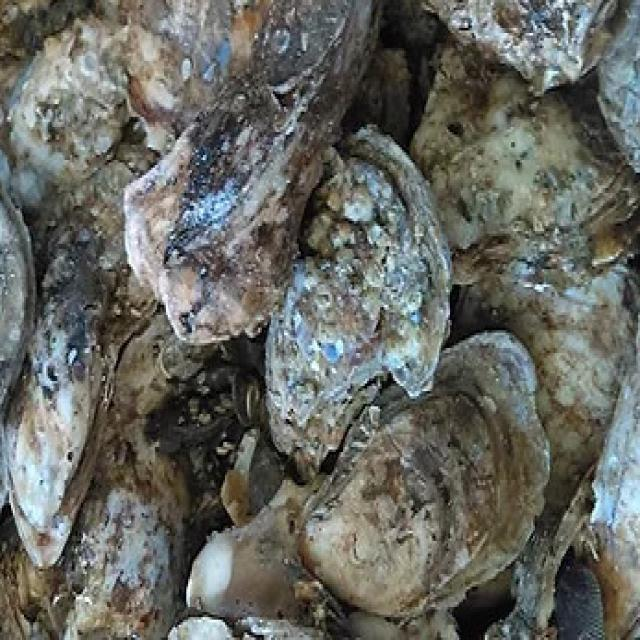Oyster-Closed: (7, 161, 158, 569), (449, 266, 640, 541), (0, 183, 37, 513)
Oyster-Indeterminate: (122, 0, 388, 346), (291, 335, 551, 618), (265, 130, 451, 481), (407, 36, 640, 287), (0, 414, 190, 640), (97, 0, 273, 138), (169, 69, 285, 251), (7, 21, 129, 189), (419, 0, 637, 89), (113, 315, 224, 419), (248, 0, 353, 91), (598, 0, 640, 171), (343, 49, 410, 149)
